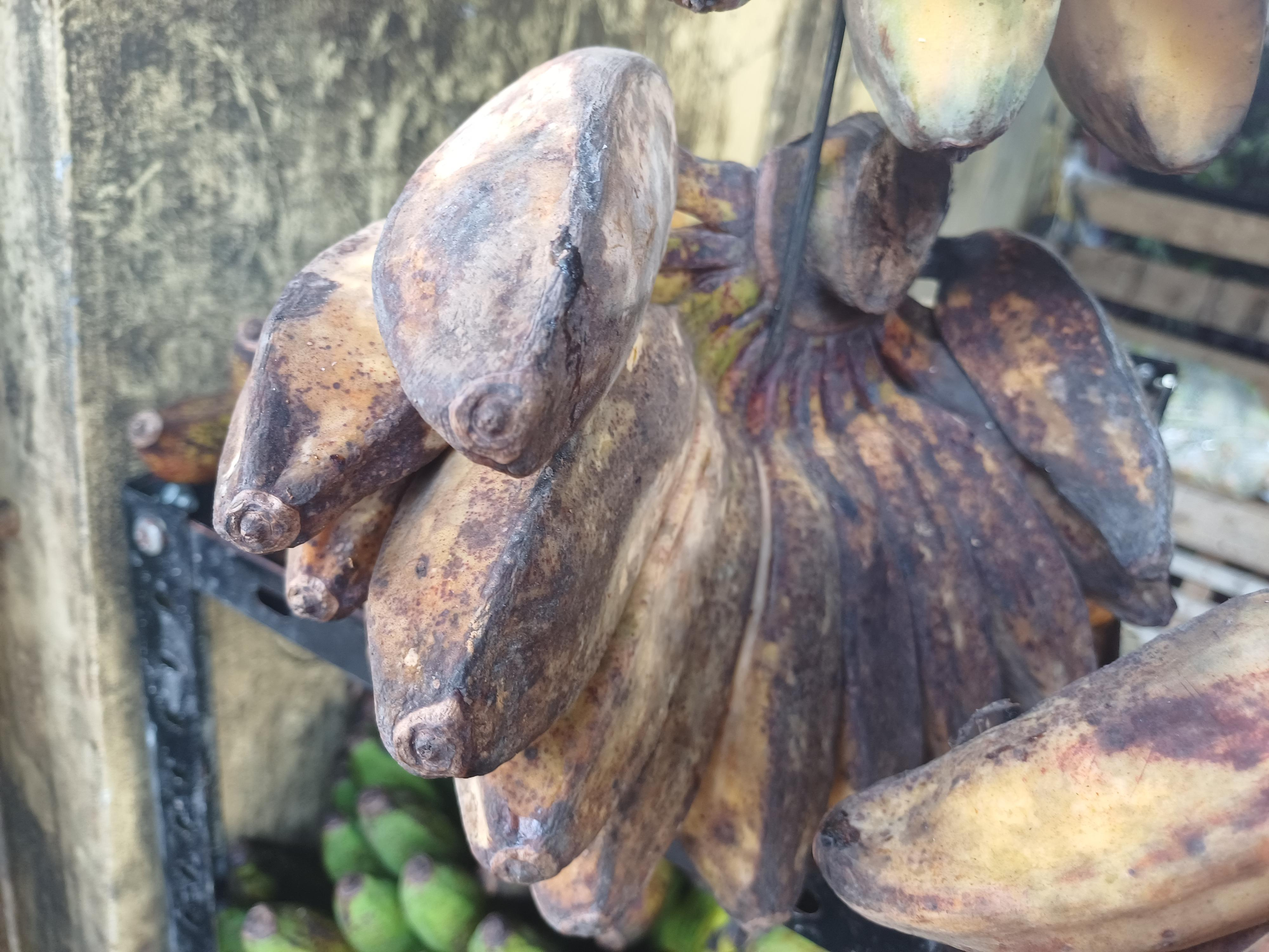overripe: (213, 48, 1174, 947)
ripe: (843, 0, 1269, 174)
